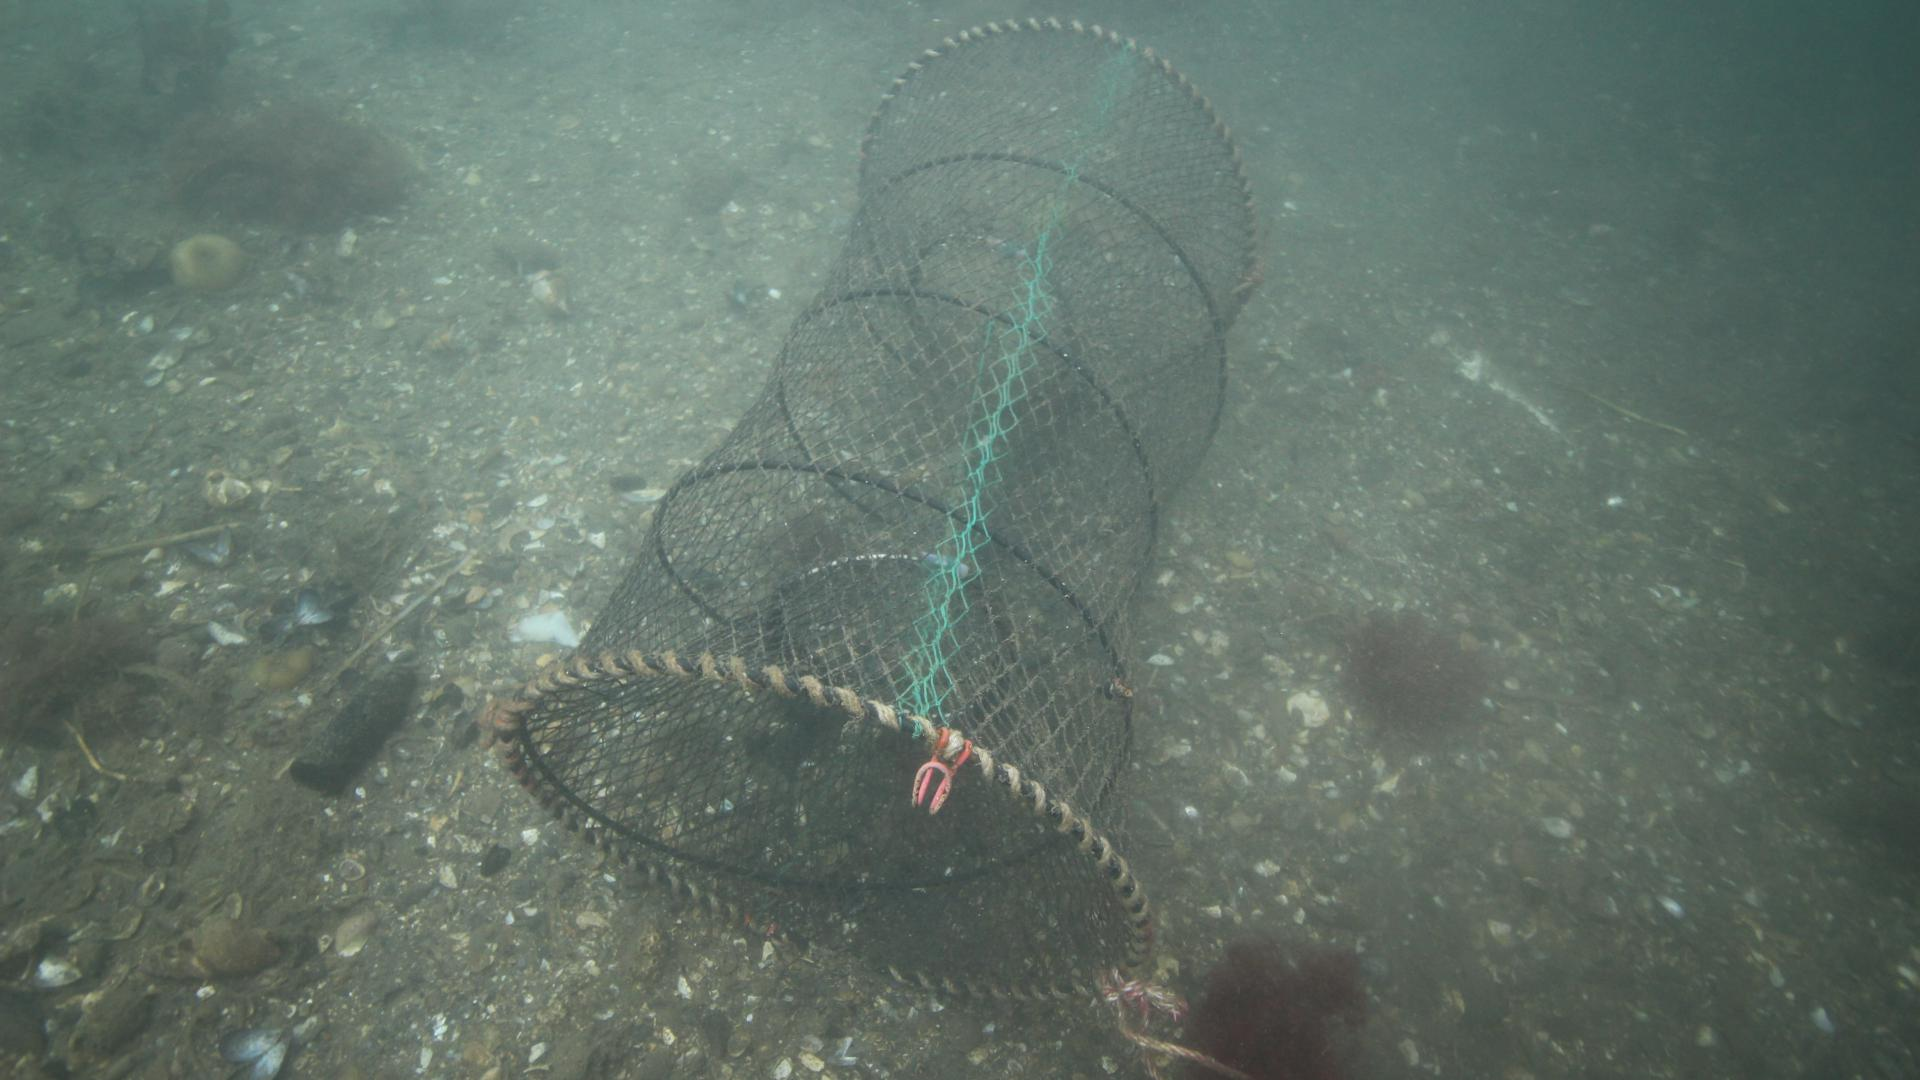spring fish trap: (492, 12, 1255, 1011)
